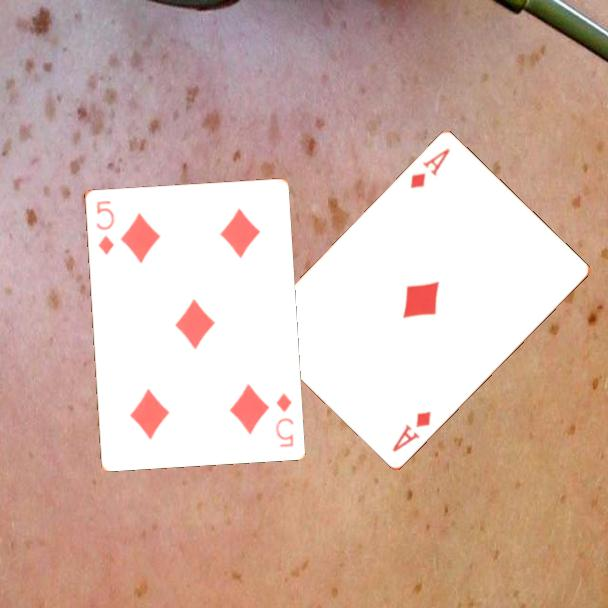d01: (407, 145, 453, 192), (389, 408, 434, 455)
d05: (92, 197, 117, 257), (272, 389, 296, 450)
